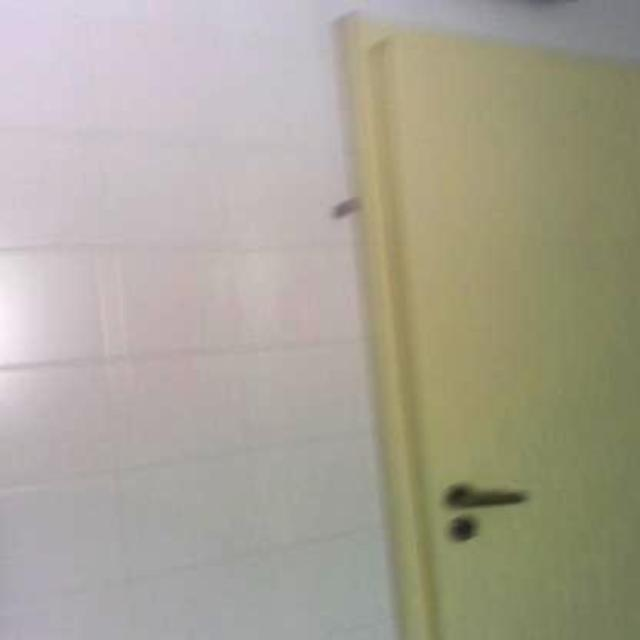door: (337, 9, 639, 638)
